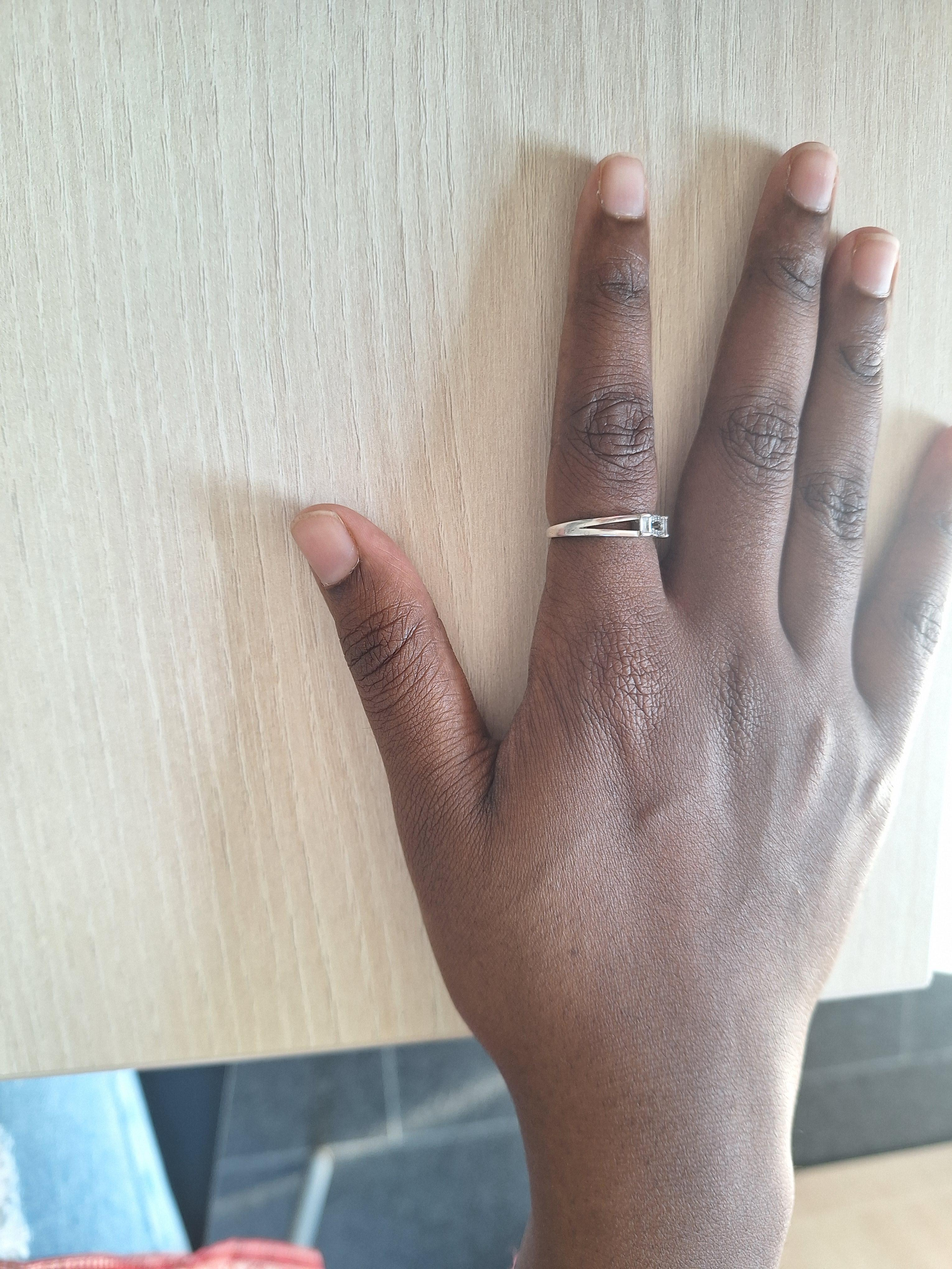Fingernail: (291, 512, 359, 588), (790, 142, 838, 213), (600, 153, 647, 220), (852, 234, 900, 296)
